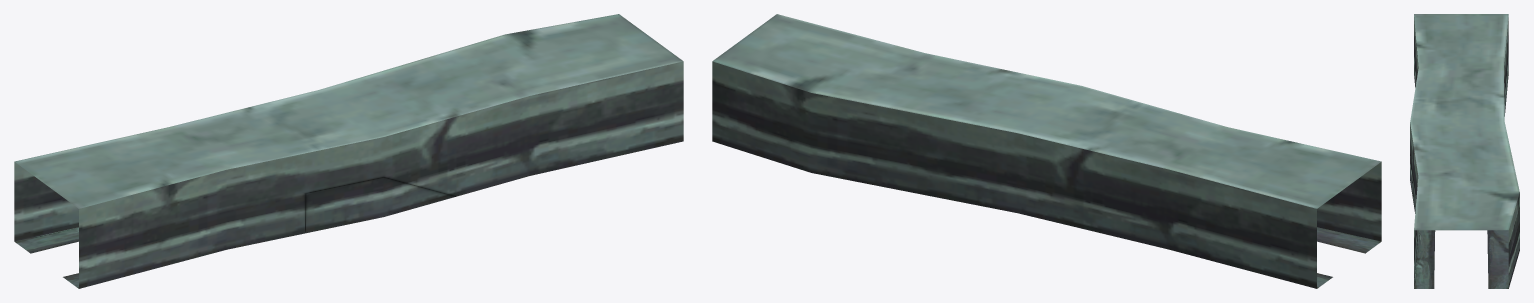
The model's file is crypt_cap_straight_01.fbx.
3 renders of one model, left to right at view 1: azimuth 30°, elevation 25°; view 2: azimuth 150°, elevation 25°; view 3: azimuth 270°, elevation 25°, orthographic. The views are drawn at different scales.
Parts seen in each view (by area): view 1: crypt_cap_straight_01-0; view 2: crypt_cap_straight_01-0; view 3: crypt_cap_straight_01-0.
Part boxes in pixels (x1=…): crypt_cap_straight_01-0: x1=14, y1=14, x2=683, y2=288; crypt_cap_straight_01-0: x1=712, y1=14, x2=1381, y2=288; crypt_cap_straight_01-0: x1=1410, y1=14, x2=1519, y2=288.
Bounding box in the file's own units: 4 × 0.5058 × 0.8573.
